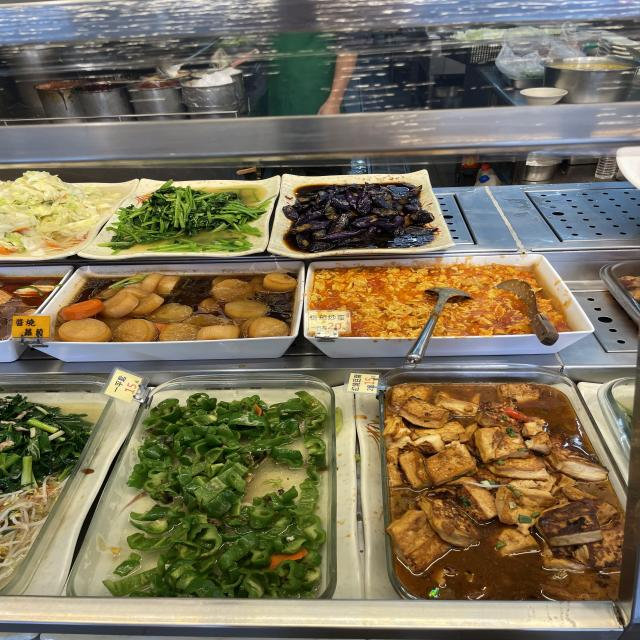Scramble Egg with Tomatoes: (321, 273, 421, 308)
cabbage: (4, 186, 77, 242)
eggplant: (304, 192, 419, 241)
